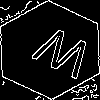W: (25, 25, 97, 88)
